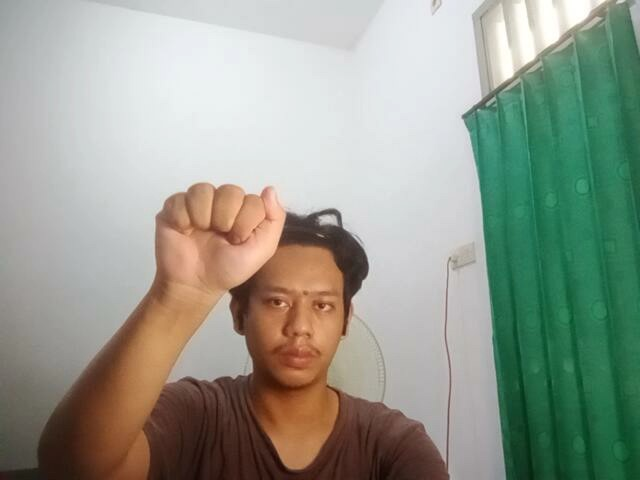A: (139, 175, 294, 301)
